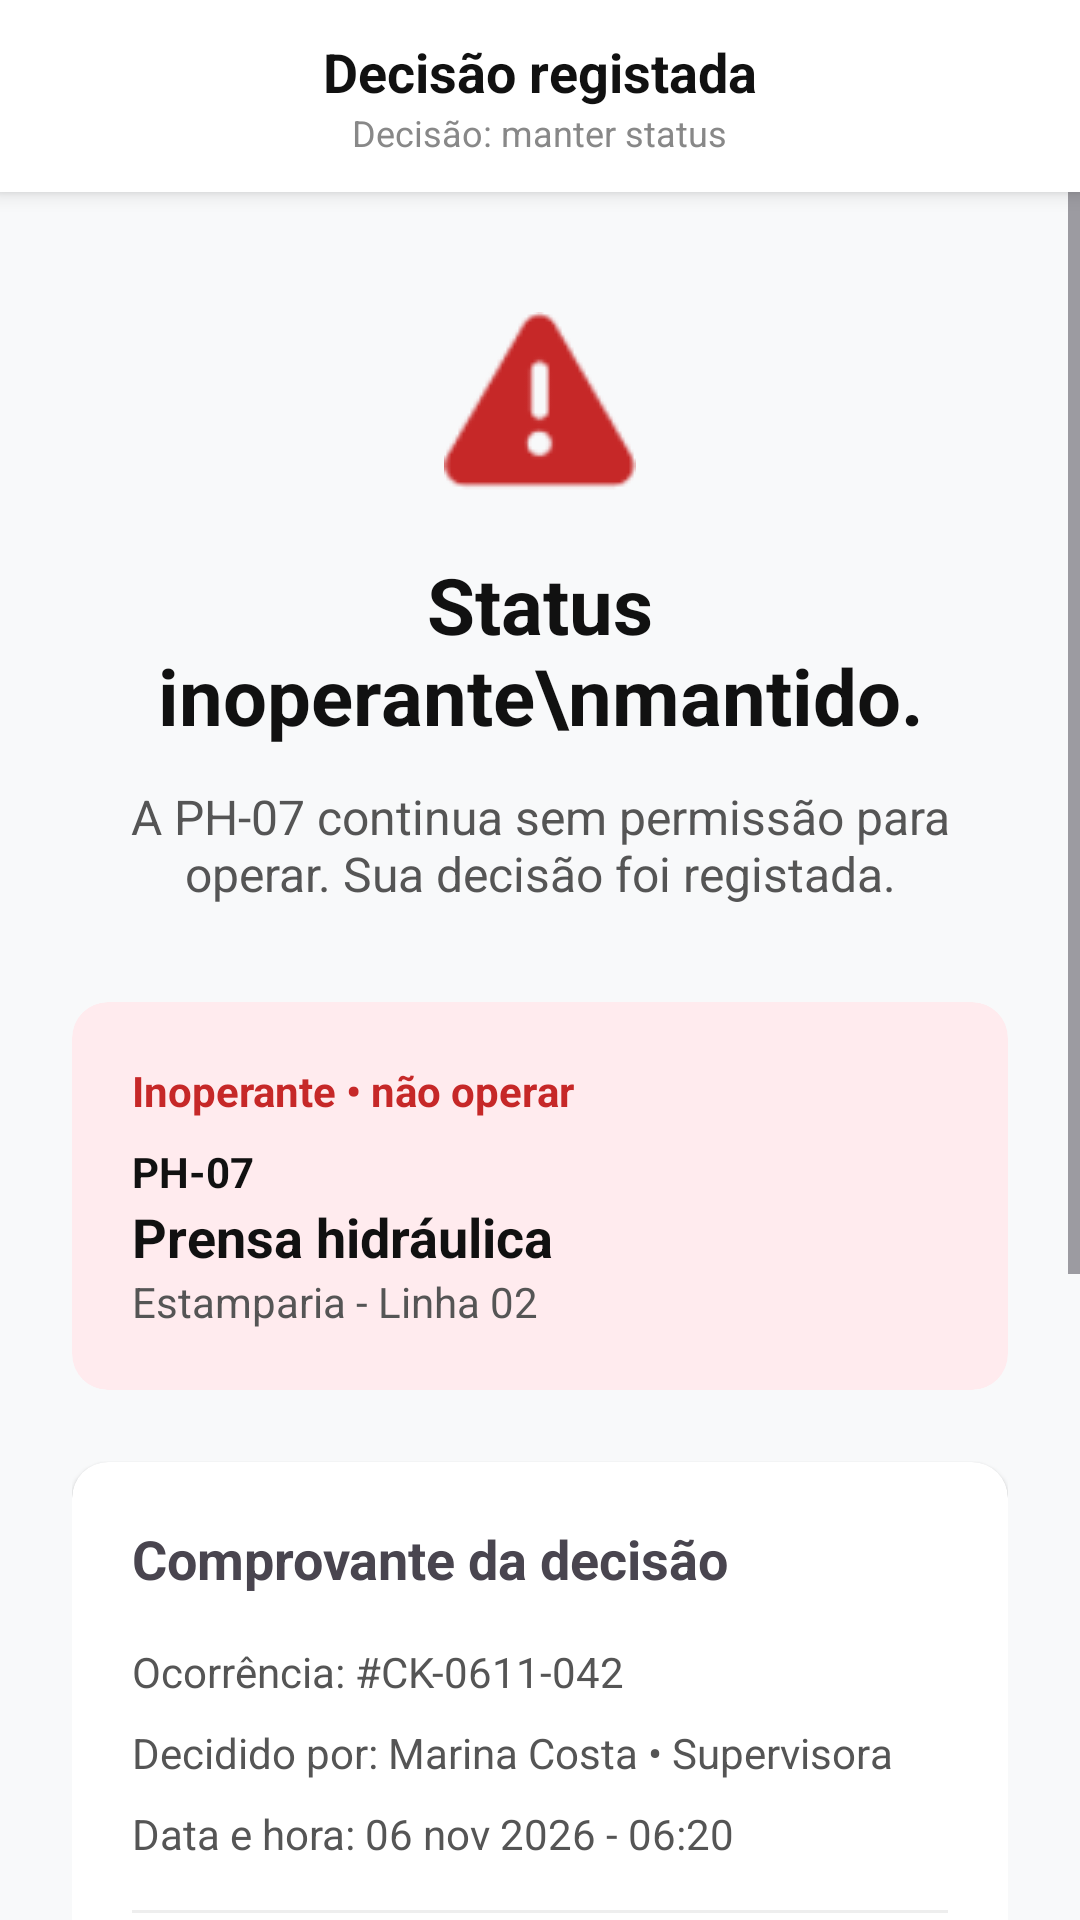

Icon bounding boxes for this 1080px x 1920px phone screenshot, format [x1=x1, y1=y1, x2=x2, y2=y2]:
alert: [x1=444, y1=312, x2=636, y2=487]
